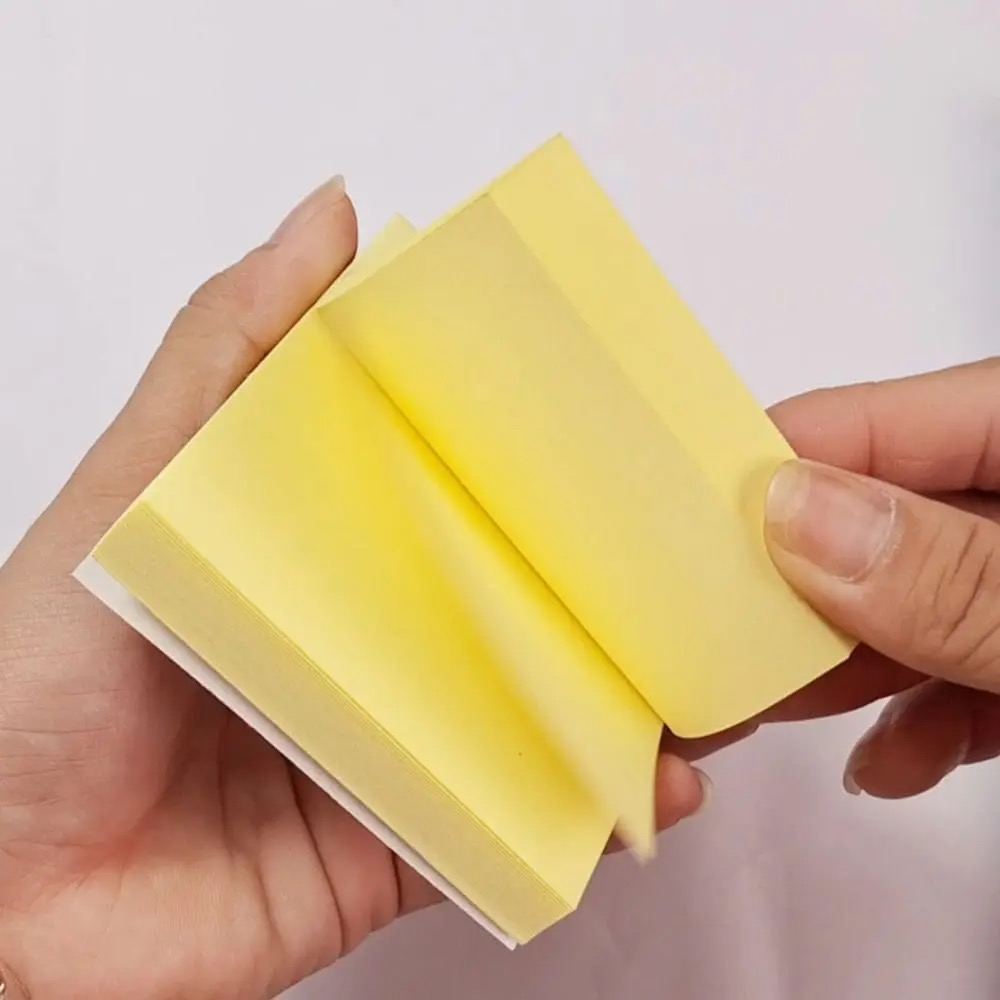paper: (67, 133, 871, 952)
